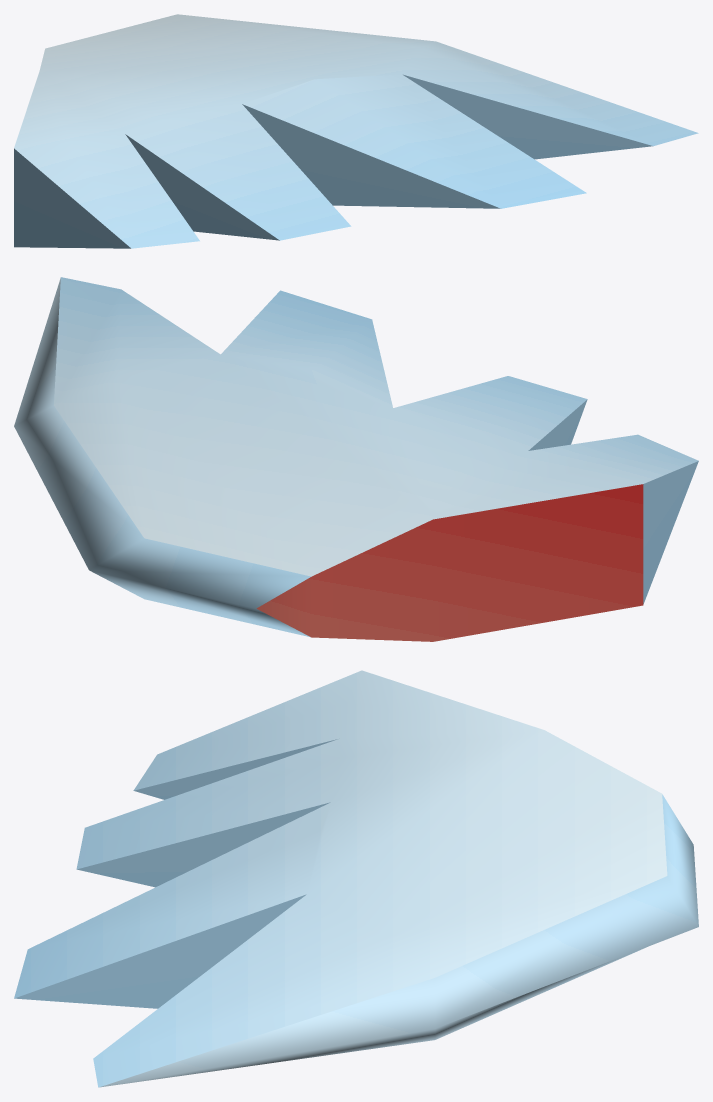
Rendered from AngelWing_Forearm_Adjusted.fbx.
3 renders of one model, top to bottom at view 1: azimuth 30°, elevation 25°; view 2: azimuth 150°, elevation 25°; view 3: azimuth 270°, elevation 25°, orthographic. The views are drawn at different scales.
Visible parts, largest first — view 1: AngelWing_Forearm_Adjusted; view 2: AngelWing_Forearm_Adjusted; view 3: AngelWing_Forearm_Adjusted.
Part boxes in pixels (left/top/right/bottom): AngelWing_Forearm_Adjusted: left=14, top=14, right=698, bottom=248; AngelWing_Forearm_Adjusted: left=14, top=277, right=698, bottom=641; AngelWing_Forearm_Adjusted: left=14, top=670, right=698, bottom=1087.
Bounding box in the file's own units: 12.22 × 2.45 × 9.96.
